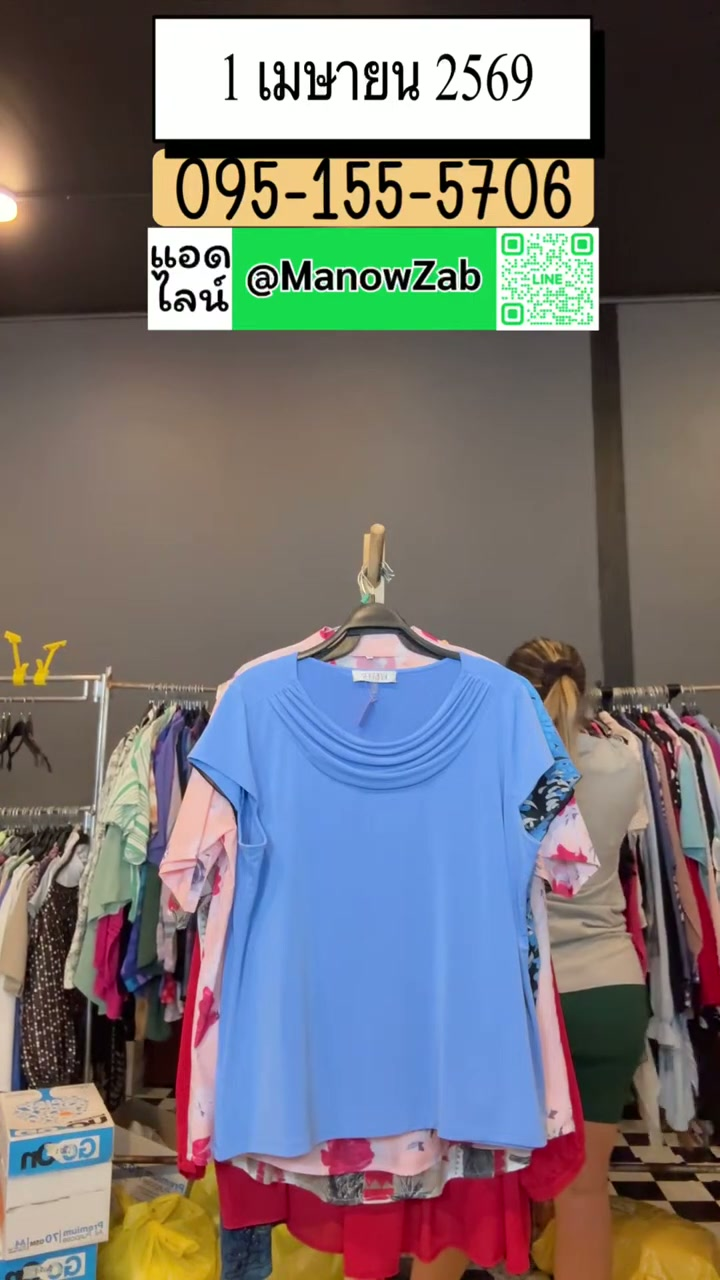display_shirt: (191, 655, 572, 1160)
